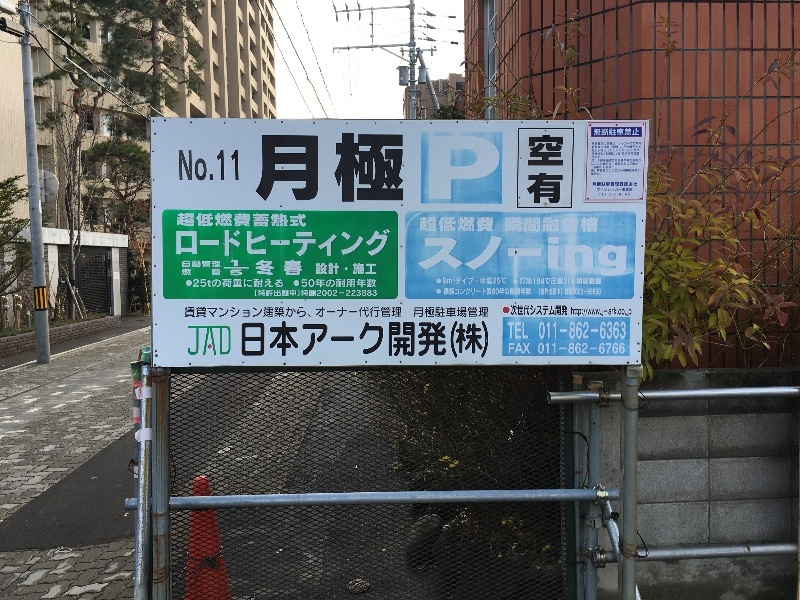text: (257, 132, 272, 203), (273, 132, 288, 203), (289, 132, 304, 203), (305, 132, 320, 203), (321, 132, 336, 203), (337, 132, 352, 203), (353, 132, 368, 203), (369, 132, 384, 203), (385, 132, 400, 203), (529, 134, 544, 205), (545, 134, 560, 205), (433, 136, 448, 200), (449, 136, 464, 200), (465, 136, 480, 200), (481, 136, 496, 200), (433, 234, 448, 278), (449, 234, 464, 278), (465, 234, 480, 278), (481, 234, 496, 278), (497, 234, 512, 278), (513, 234, 528, 278), (529, 234, 544, 278), (545, 234, 560, 278), (561, 234, 576, 278), (577, 234, 592, 278), (593, 234, 608, 278), (609, 234, 624, 278), (418, 234, 432, 278), (241, 319, 256, 359), (257, 319, 272, 359), (273, 319, 288, 359), (289, 319, 304, 359), (305, 319, 320, 359), (321, 319, 336, 359), (337, 319, 352, 359), (353, 319, 368, 359), (369, 319, 384, 359), (385, 319, 400, 359), (401, 319, 416, 359), (417, 319, 432, 359), (433, 319, 448, 359), (449, 319, 464, 359), (465, 319, 480, 359), (193, 150, 208, 182), (209, 150, 224, 182), (193, 325, 208, 356), (209, 325, 224, 356), (225, 150, 239, 182), (177, 228, 192, 257), (193, 228, 208, 257), (209, 228, 224, 257), (225, 228, 240, 257), (241, 228, 256, 257), (257, 228, 272, 257), (273, 228, 288, 257), (289, 228, 304, 257), (305, 228, 320, 257), (321, 228, 336, 257), (337, 228, 352, 257), (353, 228, 368, 257), (369, 228, 384, 257), (179, 150, 192, 182), (481, 319, 490, 359), (513, 321, 529, 340), (545, 321, 560, 340), (561, 321, 576, 340), (577, 321, 592, 340), (593, 321, 608, 340), (609, 321, 624, 340), (428, 136, 432, 200), (433, 217, 448, 233), (449, 217, 464, 233), (465, 217, 480, 233), (513, 217, 528, 233), (529, 217, 544, 233), (545, 217, 560, 233), (561, 217, 576, 233), (577, 217, 592, 233), (193, 260, 208, 276), (225, 260, 240, 276), (257, 260, 272, 276), (273, 260, 288, 276), (401, 132, 404, 203), (561, 134, 564, 205), (177, 213, 192, 227), (193, 213, 208, 227), (209, 213, 224, 227), (225, 213, 240, 227), (241, 213, 256, 227), (257, 213, 272, 227), (273, 213, 288, 227), (289, 213, 304, 227), (481, 217, 494, 233), (289, 260, 302, 276), (513, 342, 528, 355), (193, 306, 208, 319), (209, 306, 224, 319), (225, 306, 240, 319), (241, 306, 256, 319), (257, 306, 272, 319), (273, 306, 288, 319), (289, 306, 304, 319), (305, 306, 320, 319), (321, 306, 336, 319), (337, 306, 352, 319), (353, 306, 368, 319), (369, 306, 384, 319), (385, 306, 400, 319), (497, 136, 500, 200), (420, 217, 432, 233), (209, 260, 221, 276), (225, 325, 231, 356), (545, 342, 560, 354), (561, 342, 576, 354), (577, 342, 592, 354), (593, 342, 608, 354), (609, 342, 624, 354), (321, 263, 336, 275), (337, 263, 352, 275), (353, 263, 368, 275), (625, 234, 629, 278), (385, 228, 391, 257), (513, 305, 528, 316), (529, 305, 544, 316), (545, 305, 560, 316), (417, 307, 432, 318), (433, 307, 448, 318), (449, 307, 464, 318), (465, 307, 480, 318), (182, 260, 192, 276), (577, 307, 592, 317), (593, 307, 608, 317), (609, 307, 624, 317), (241, 260, 250, 276), (193, 279, 208, 288), (209, 279, 224, 288), (225, 279, 240, 288), (241, 279, 256, 288), (257, 279, 272, 288), (305, 279, 320, 288), (321, 279, 336, 288), (337, 279, 352, 288), (353, 279, 368, 288), (257, 289, 272, 298), (273, 289, 288, 298), (289, 289, 304, 298), (305, 289, 320, 298), (321, 289, 336, 298), (337, 289, 352, 298), (353, 289, 368, 298), (188, 325, 192, 356), (609, 128, 624, 136), (625, 128, 640, 136), (449, 277, 464, 285), (465, 277, 480, 285), (481, 277, 496, 285), (529, 277, 544, 285), (545, 277, 560, 285), (561, 277, 576, 285), (577, 277, 592, 285), (449, 288, 464, 296), (465, 288, 480, 296), (481, 288, 496, 296), (497, 288, 512, 296), (513, 288, 528, 296), (545, 288, 560, 296), (561, 288, 576, 296), (577, 288, 592, 296), (594, 128, 608, 136), (184, 306, 192, 319), (273, 279, 284, 288), (506, 217, 512, 233), (369, 263, 377, 275), (507, 321, 512, 340), (539, 321, 544, 340), (481, 307, 489, 318), (593, 217, 598, 233), (497, 277, 507, 285), (625, 307, 633, 317), (561, 305, 568, 316), (593, 182, 608, 187), (609, 182, 624, 187), (593, 277, 602, 285), (593, 288, 602, 296), (538, 342, 544, 354), (369, 279, 377, 288), (369, 289, 377, 298), (625, 182, 638, 187), (520, 277, 528, 285), (625, 145, 640, 149), (593, 152, 608, 156), (609, 152, 624, 156), (625, 152, 640, 156), (609, 188, 624, 192), (625, 162, 638, 166), (508, 342, 512, 355), (571, 307, 576, 317), (625, 159, 641, 162), (625, 169, 641, 172), (316, 263, 320, 275), (593, 143, 608, 146), (625, 142, 640, 145), (593, 146, 608, 149), (593, 149, 608, 152), (609, 149, 624, 152), (625, 149, 640, 152), (593, 159, 608, 162), (609, 159, 624, 162), (593, 163, 608, 166), (593, 166, 608, 169), (593, 169, 608, 172), (609, 169, 624, 172), (609, 193, 624, 196), (597, 188, 608, 192), (609, 146, 623, 149), (539, 288, 544, 296), (615, 162, 624, 166), (625, 188, 633, 192), (444, 277, 448, 285), (444, 288, 448, 296), (424, 76, 432, 80), (175, 228, 176, 257), (305, 213, 307, 227), (593, 156, 602, 159), (599, 193, 608, 196), (529, 342, 531, 355), (401, 306, 403, 319), (609, 143, 617, 146), (593, 173, 601, 176), (529, 288, 532, 296), (625, 321, 626, 340), (302, 279, 304, 288), (619, 142, 624, 145), (625, 193, 630, 196), (609, 163, 613, 166), (609, 166, 613, 169), (625, 342, 626, 354), (511, 305, 512, 316), (415, 307, 416, 318), (255, 289, 256, 298), (401, 77, 403, 81), (641, 145, 642, 149), (641, 142, 642, 145), (591, 169, 592, 172), (591, 173, 592, 176)
